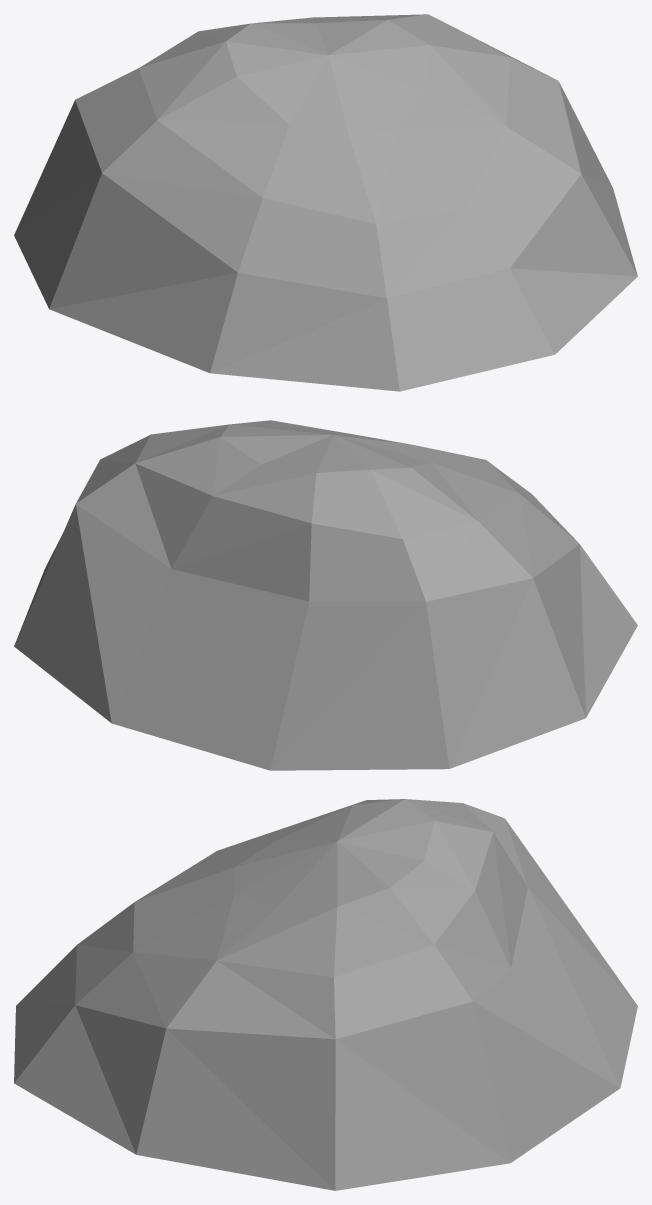
Rendered from Isl_1_Stone_3.fbx.
3 renders of one model, top to bottom at view 1: azimuth 30°, elevation 25°; view 2: azimuth 150°, elevation 25°; view 3: azimuth 270°, elevation 25°, orthographic. The views are drawn at different scales.
Parts seen in each view (by area): view 1: Isl_1_Stone_3; view 2: Isl_1_Stone_3; view 3: Isl_1_Stone_3.
Boxes of the visible parts, x1=… form: Isl_1_Stone_3: x1=14, y1=14, x2=637, y2=391; Isl_1_Stone_3: x1=14, y1=420, x2=637, y2=770; Isl_1_Stone_3: x1=14, y1=799, x2=637, y2=1190.
Bounding box in the file's own units: 216 × 208 × 78.72.
1 material, 1 textured.
